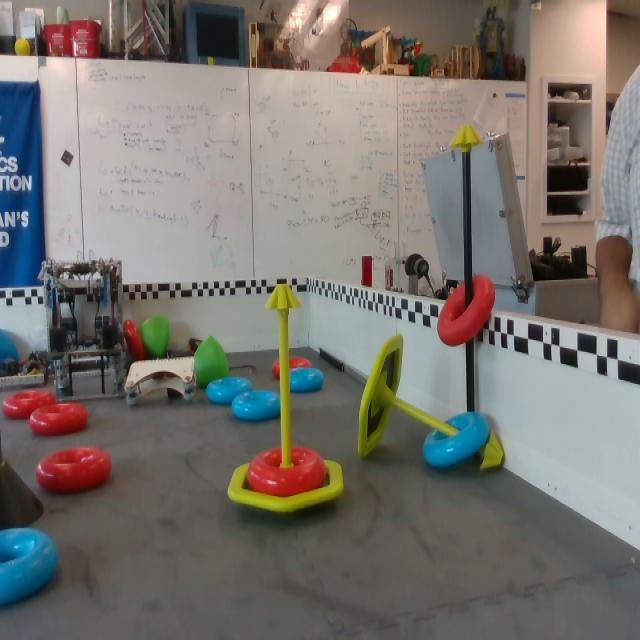Blue-Ring: (0, 528, 58, 608), (422, 412, 491, 468), (234, 389, 284, 421), (206, 377, 253, 404), (281, 368, 324, 393)
Mobile-Goal: (229, 283, 344, 512), (359, 333, 504, 469)
Red-Ring: (437, 275, 498, 349), (249, 445, 329, 496), (34, 448, 111, 496), (29, 403, 88, 433), (2, 391, 59, 419), (121, 319, 146, 360), (274, 356, 310, 378)
Yellow-Stake-Head: (265, 284, 302, 311), (481, 431, 504, 470), (450, 125, 484, 149)
